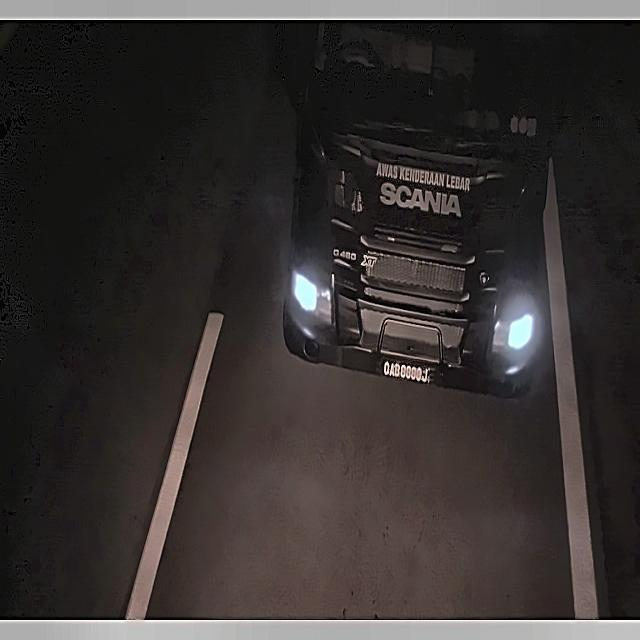car: (378, 356, 436, 391)
